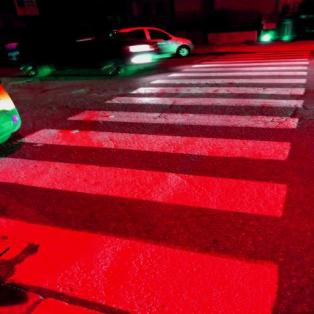Paso de Cebra: (1, 154, 300, 314), (56, 96, 310, 132)
